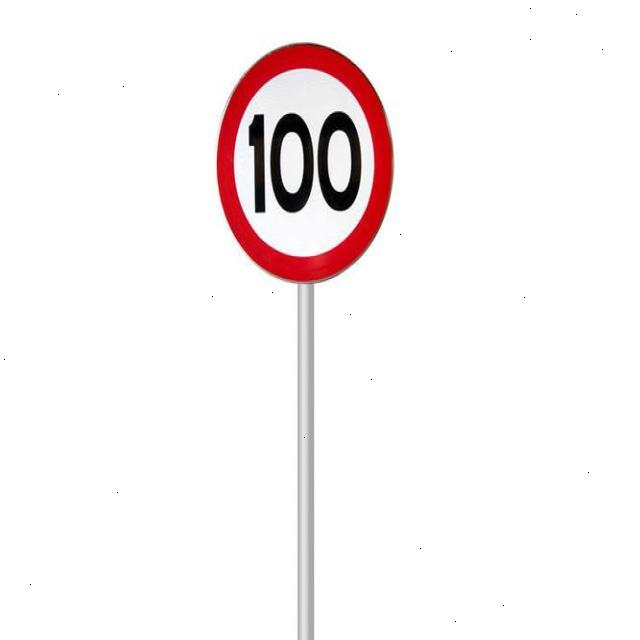speed limit 100: (214, 45, 394, 283)
